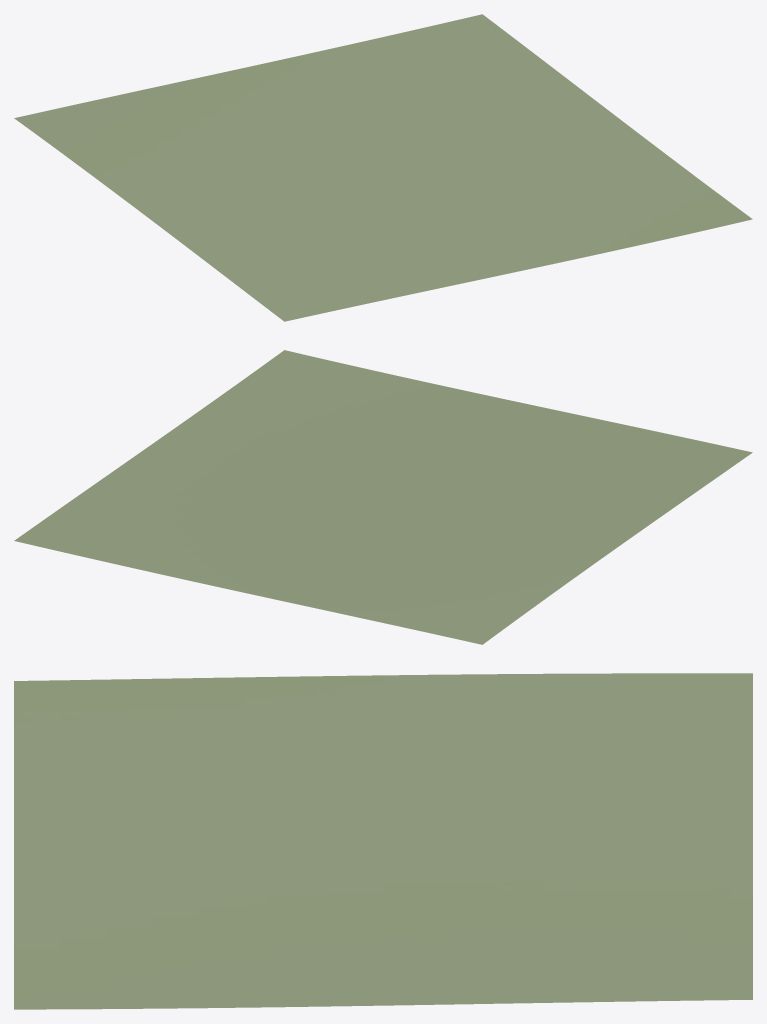
The model's file is expanse-11-30.glb.
3 renders of one model, top to bottom at view 1: azimuth 30°, elevation 25°; view 2: azimuth 150°, elevation 25°; view 3: azimuth 270°, elevation 25°, orthographic. The views are drawn at different scales.
Parts seen in each view (by area): view 1: expanse-11-30; view 2: expanse-11-30; view 3: expanse-11-30.
Part boxes in pixels (bbox=[...]): expanse-11-30: bbox=[14, 14, 752, 321]; expanse-11-30: bbox=[14, 350, 752, 644]; expanse-11-30: bbox=[14, 673, 752, 1009].
Bounding box in the file's own units: 256 × 9.15 × 256.
